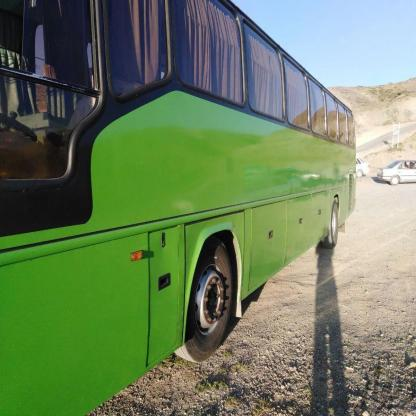Bus: (0, 0, 359, 416)
Car: (378, 147, 416, 188)
